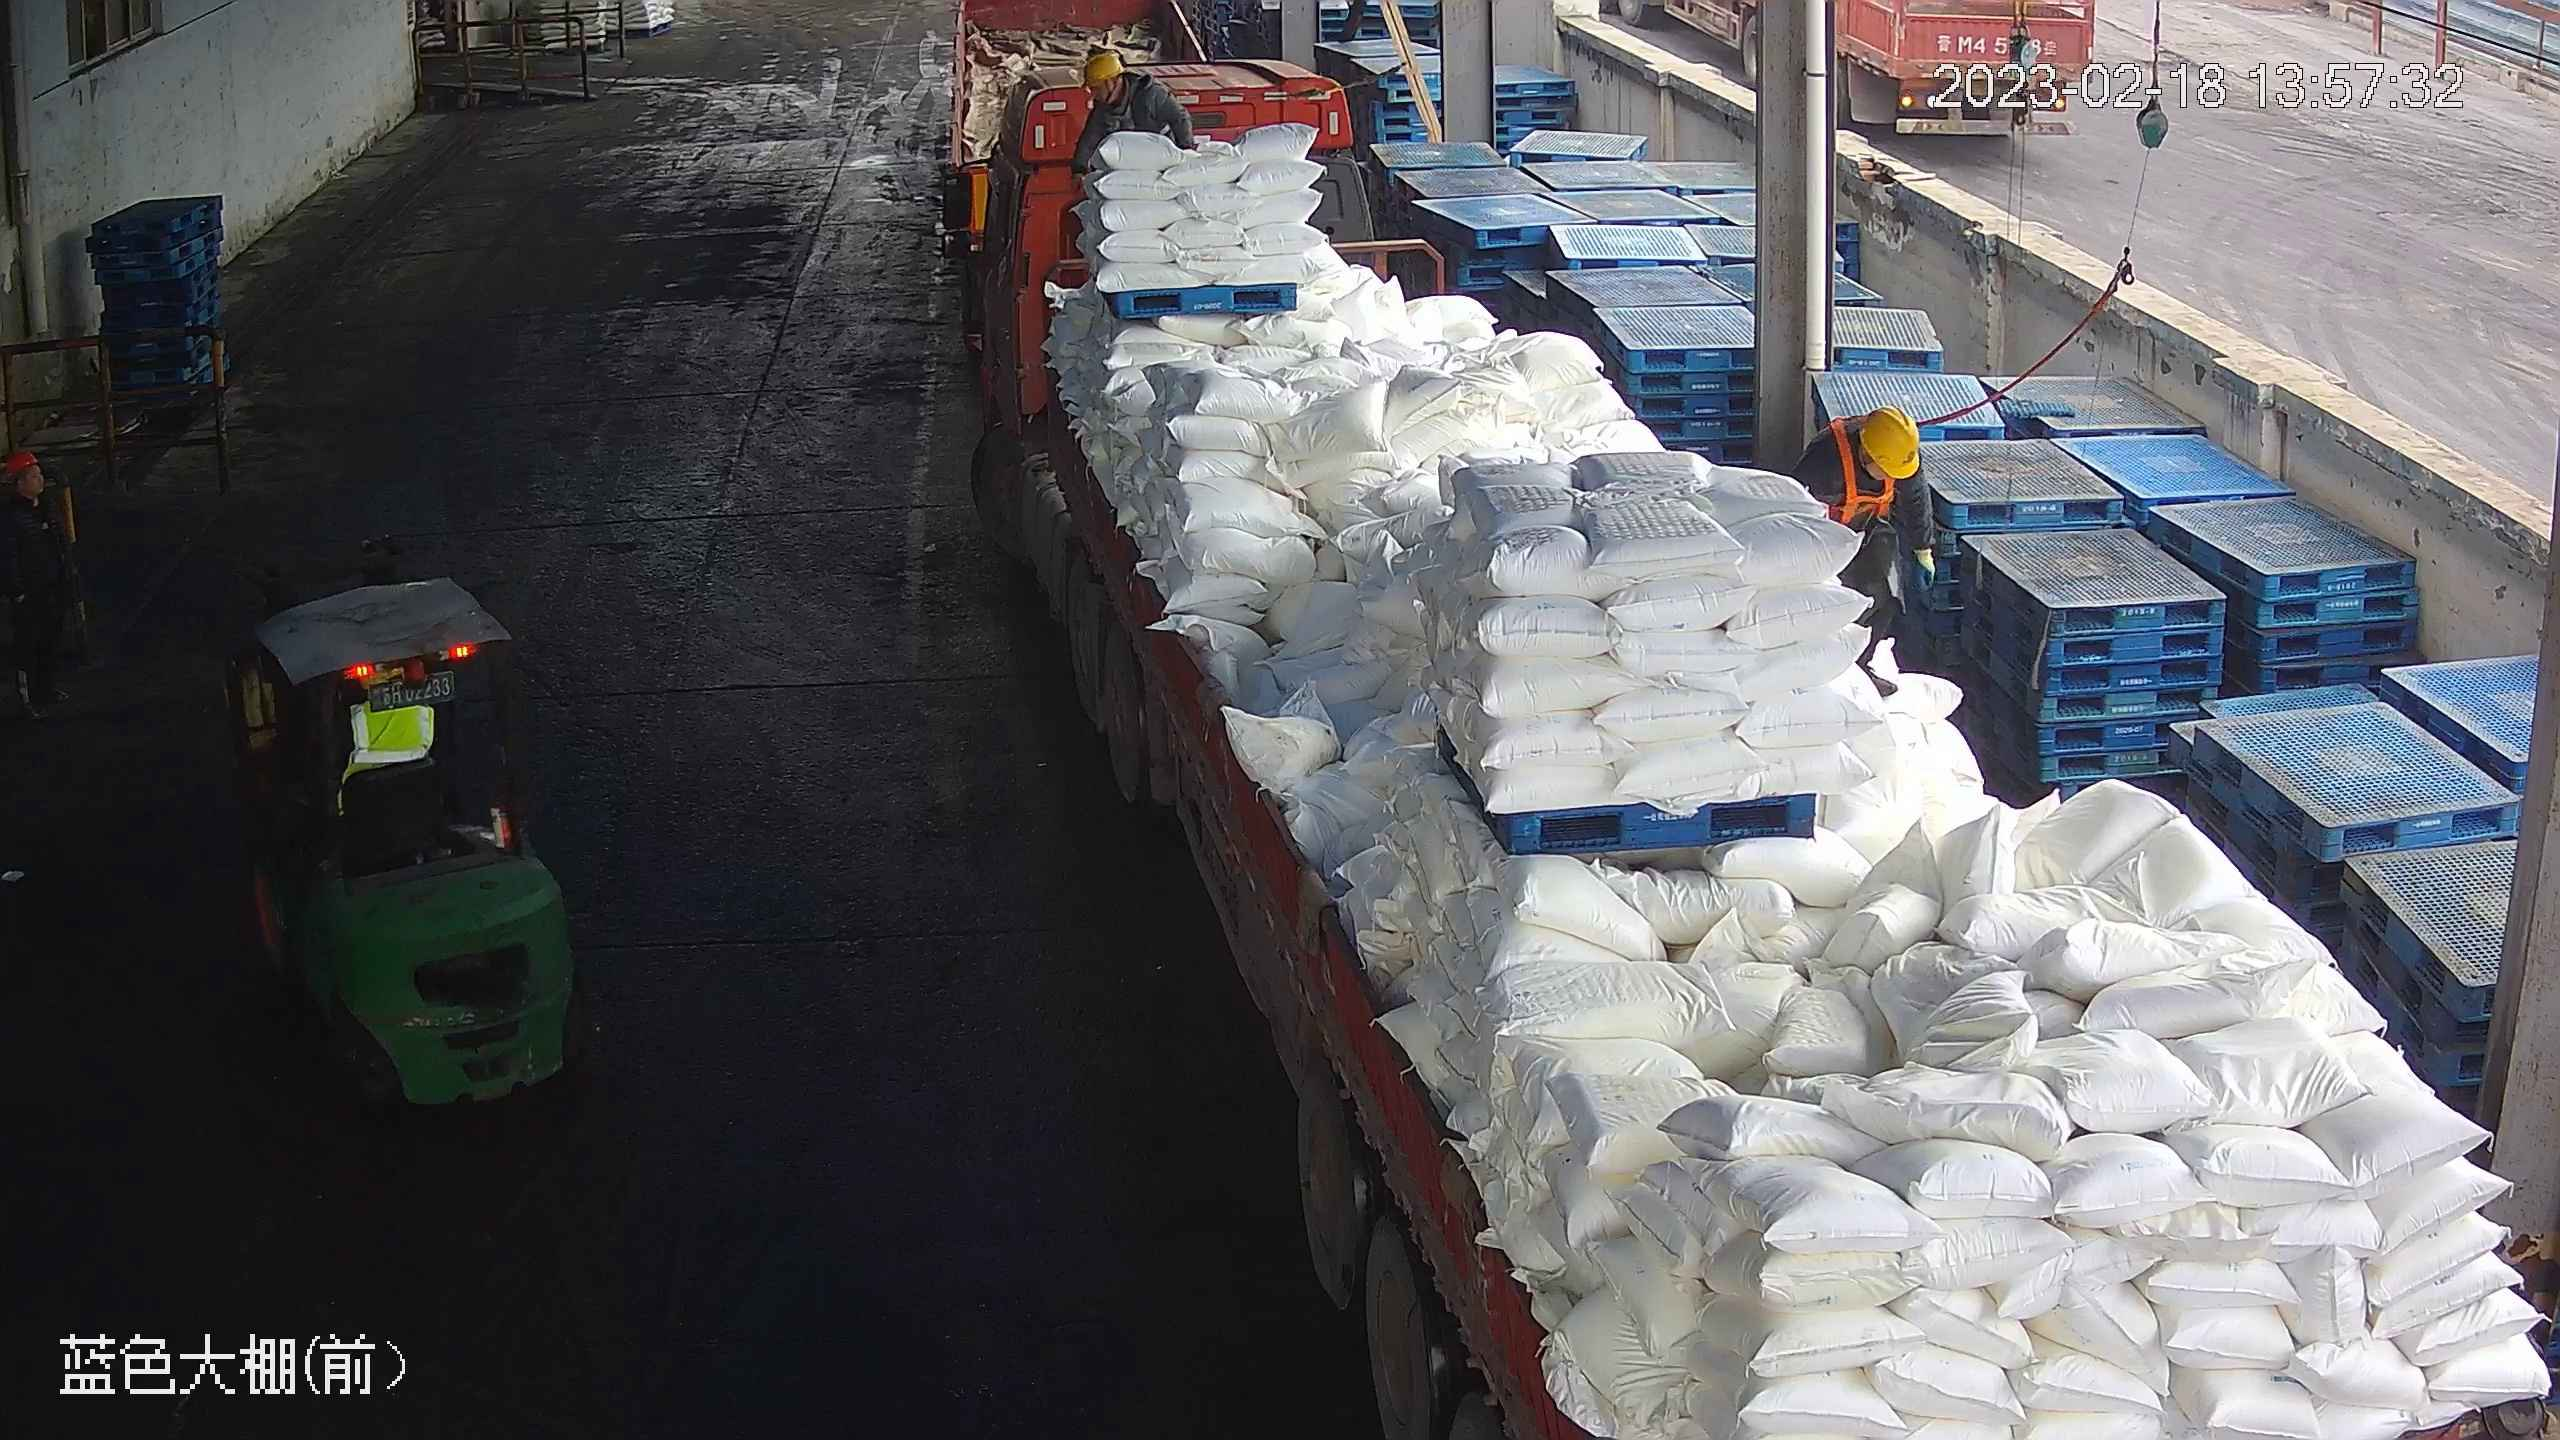belt: (1830, 458, 1889, 527), (1109, 80, 1156, 132)
head: (1815, 406, 1928, 499), (2, 452, 79, 552), (1084, 47, 1167, 114)
helmet: (1861, 405, 1929, 482), (1080, 45, 1125, 82), (6, 449, 36, 476)
people: (1785, 403, 1934, 700), (1, 451, 85, 722)
truck: (934, 58, 2554, 1440)
